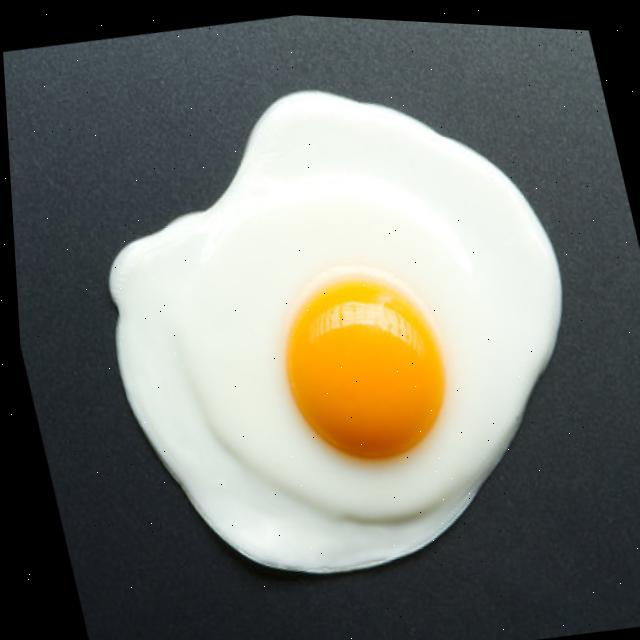Egg: (107, 87, 558, 568)
